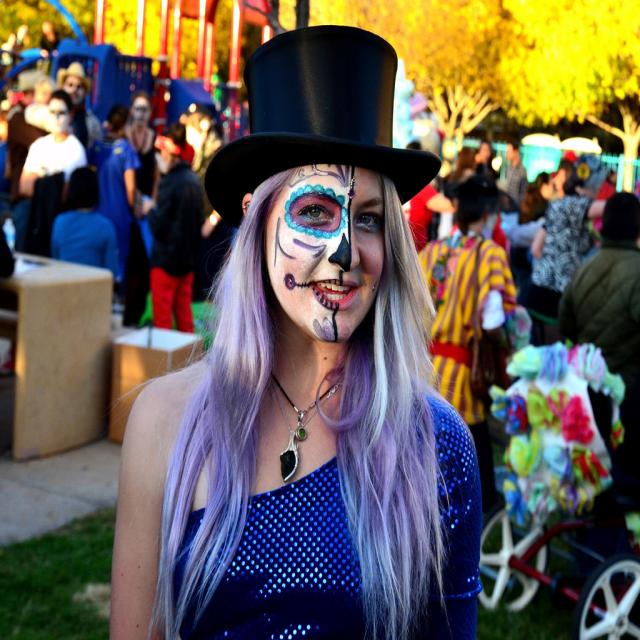Hat: (202, 26, 442, 230), (444, 178, 516, 211), (56, 60, 92, 100)
